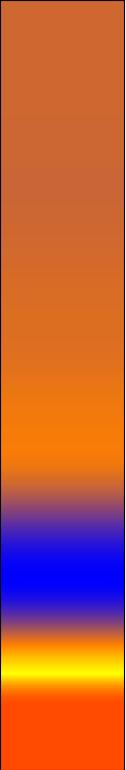Thermal Runaway: (4, 328, 118, 484), (8, 655, 116, 766)
critical: (6, 6, 113, 316), (3, 616, 119, 643), (6, 498, 119, 512)
safe: (14, 530, 119, 604)
